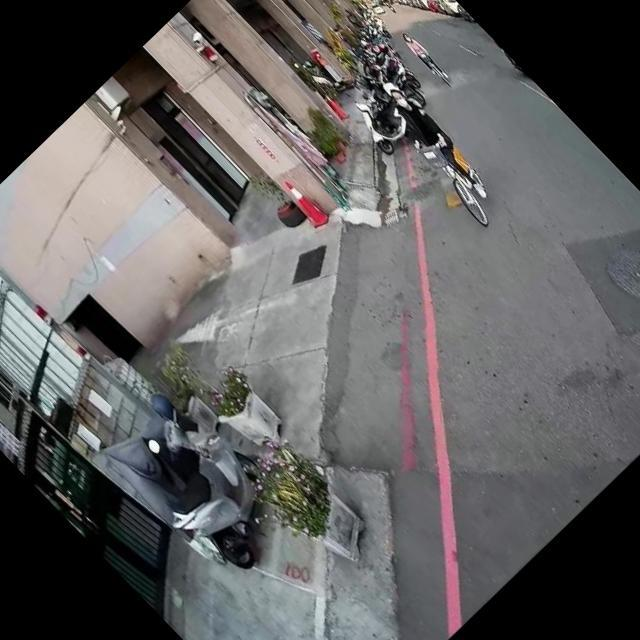person: (370, 78, 500, 211), (395, 27, 452, 85)
